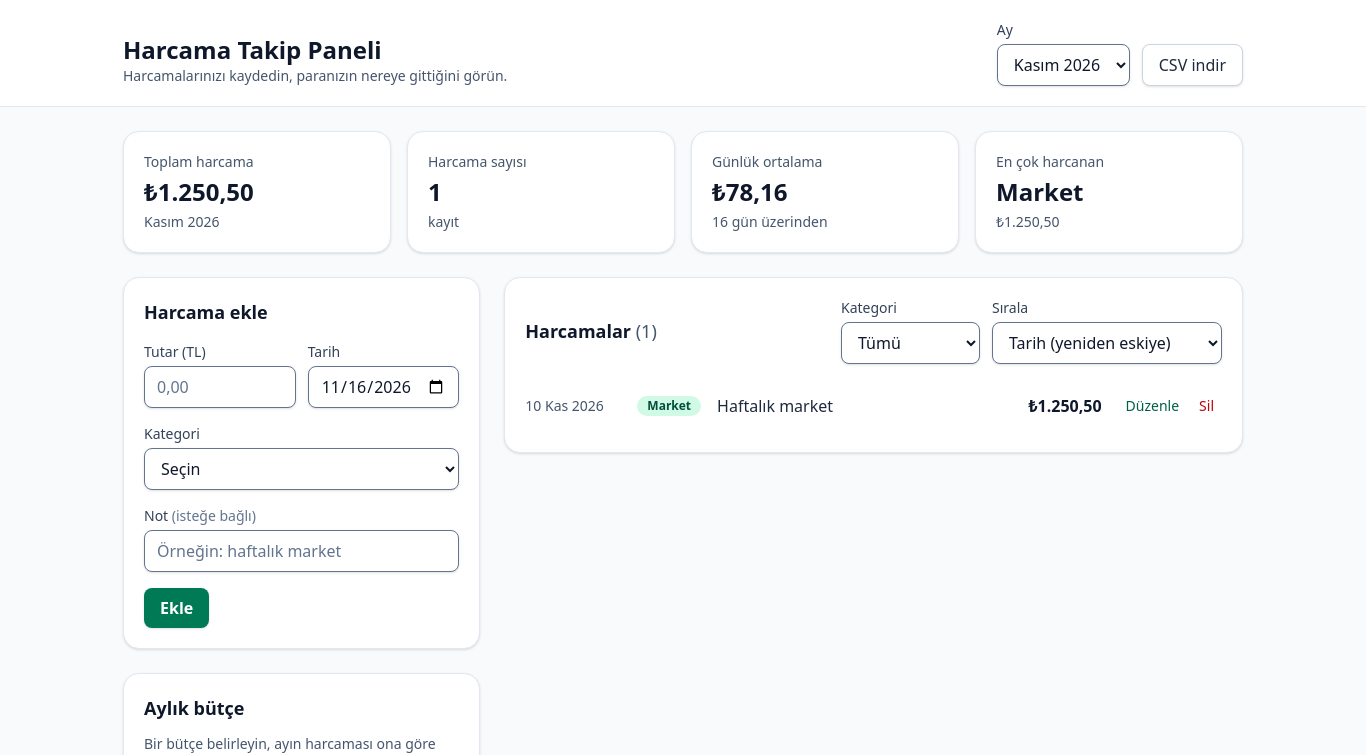
Test case: editing and deleting › closes the edit form when the expense being edited is deleted
Click the button "Düzenle": {"x": 1152, "y": 406} [1118,392,1187,420]
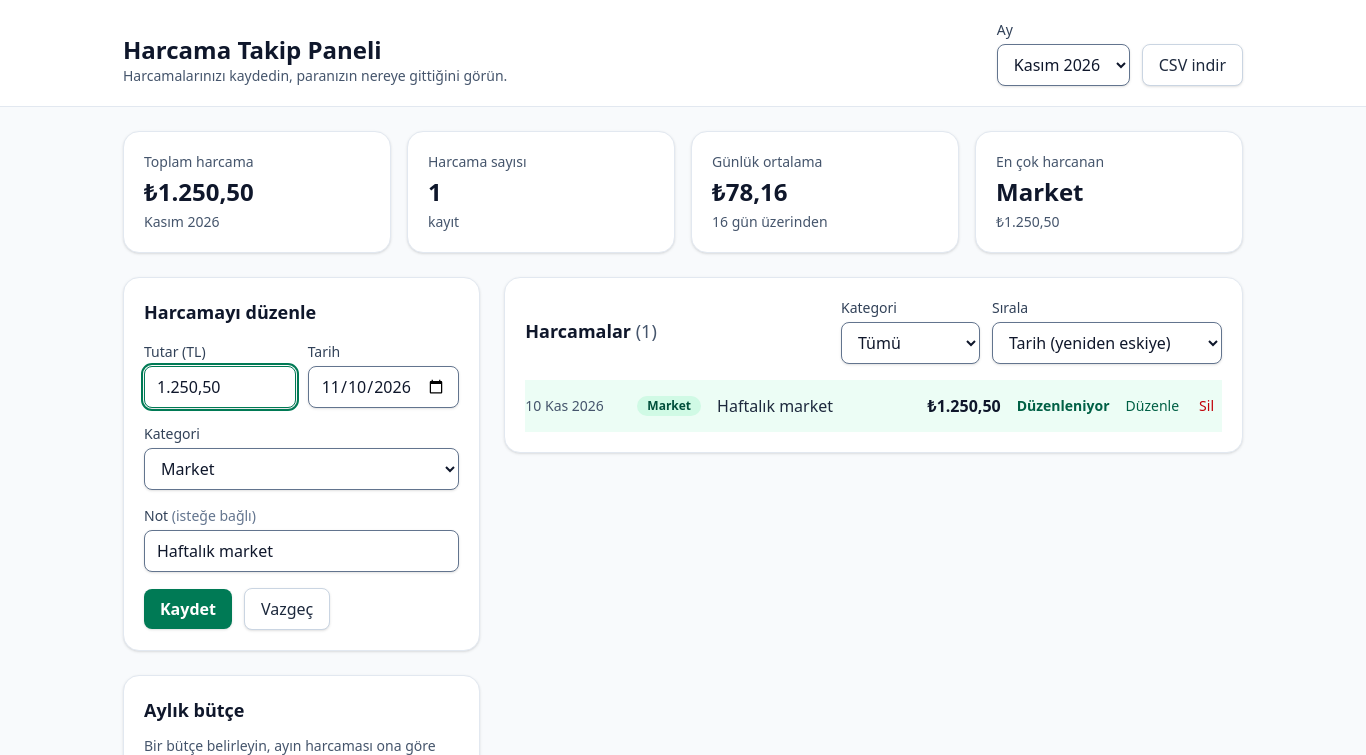
Click the button named "harcaması: sil": {"x": 1207, "y": 406} [1191,392,1222,420]
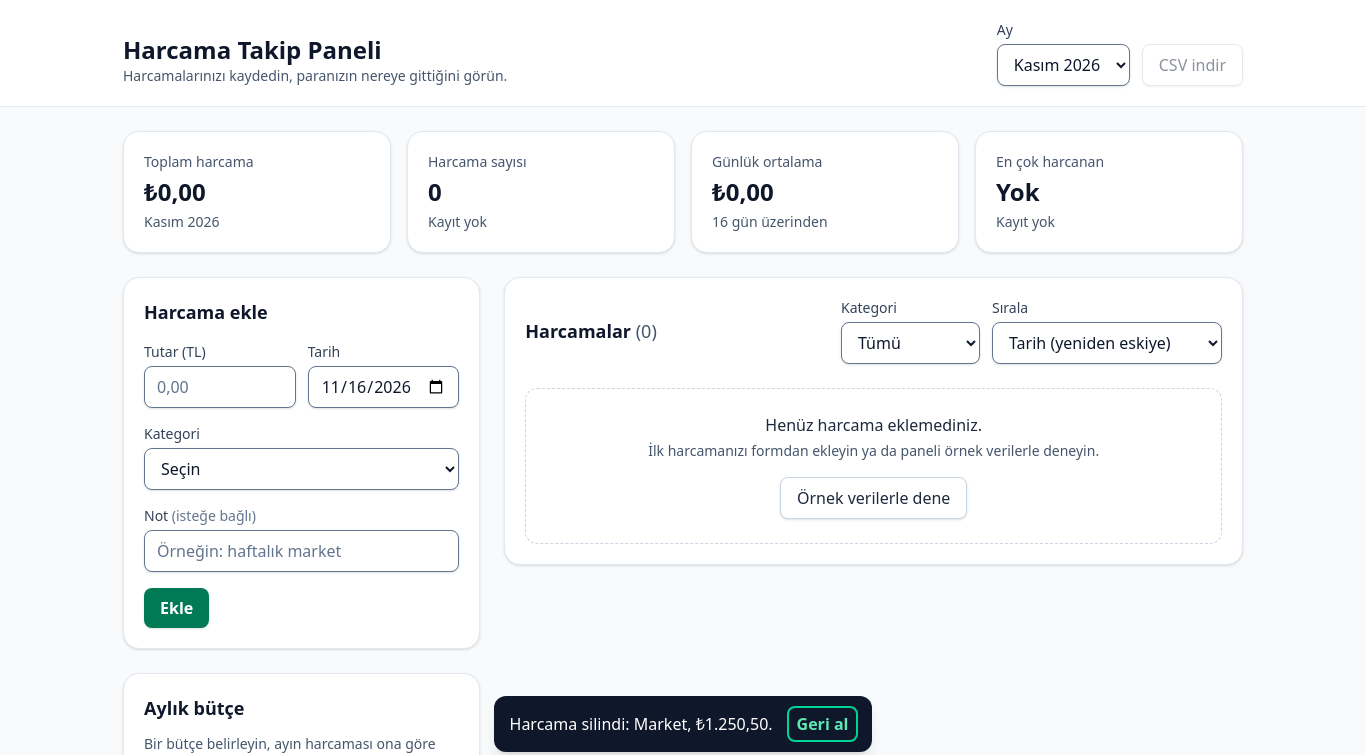
Expected: the heading "Harcama ekle" is shown, [144,300,268,324]
